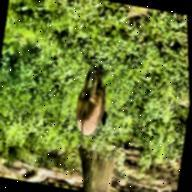boar: (69, 64, 115, 140)
